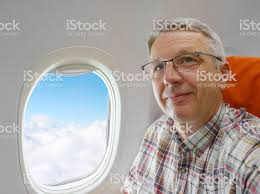white_male: (149, 33, 208, 118)
